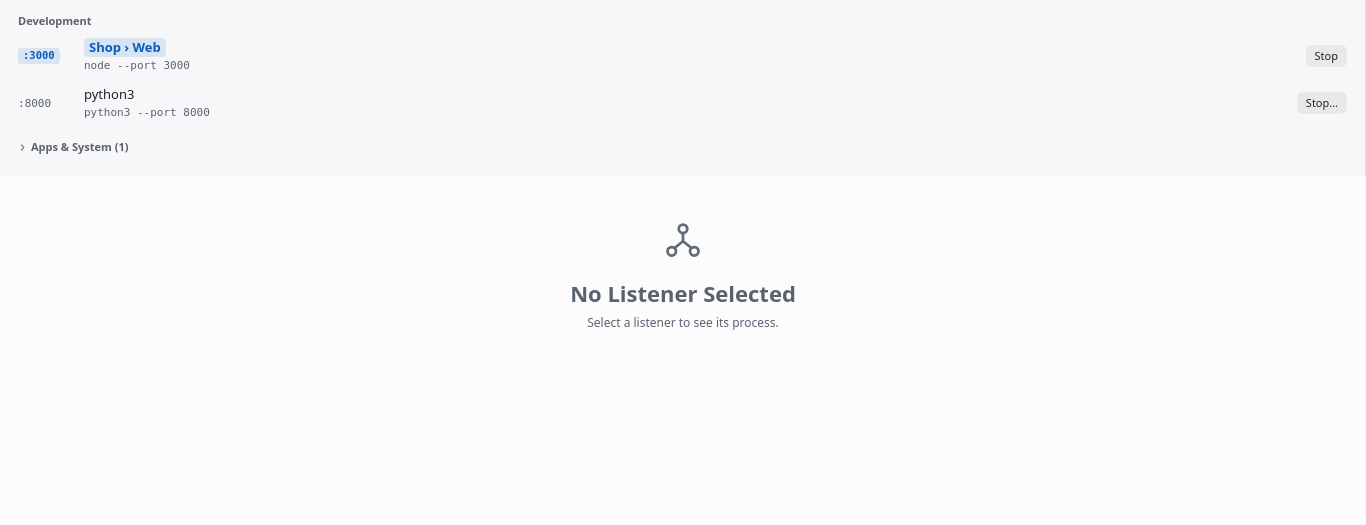
Test: PortsView › shows the selected Listener's process
The width and height of the screenshot is (1366, 525).
Click the option ":8000 python3 python3 --port 8000 Stop…".
click(109, 94)  # box [10,81,1355,126]
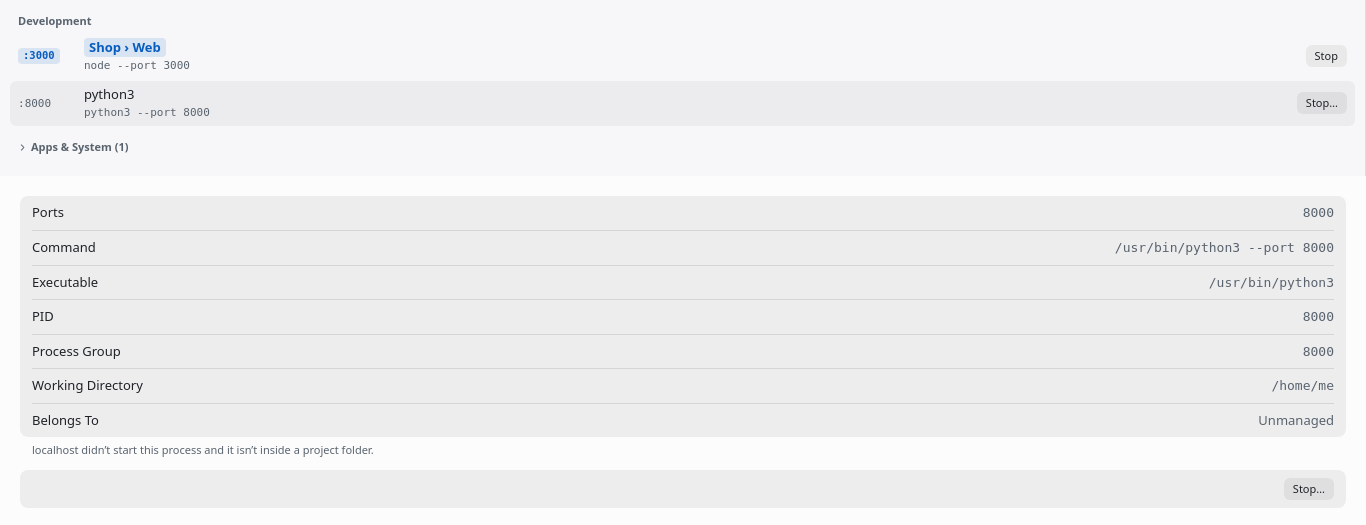
Expected: the element named "python3 process" shows "/usr/bin/python3 --port 8000", [1115,240,1334,255]
Expected: the element named "python3 process" shows "localhost didn’t start this process", [32,442,374,457]
